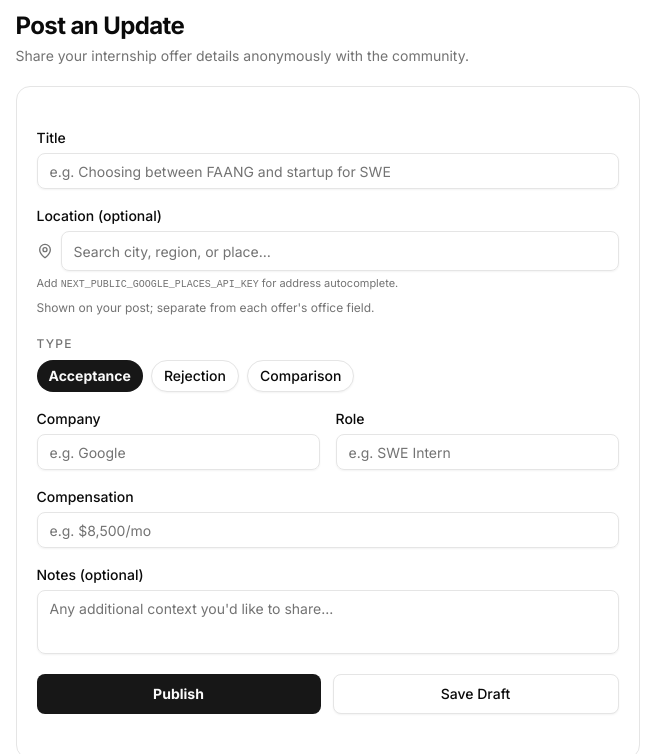
Test case: SubmitOfferForm › shows validation error when title is missing (Publish)
Click the button "Publish".
click(178, 694)  # box [36,674,320,714]
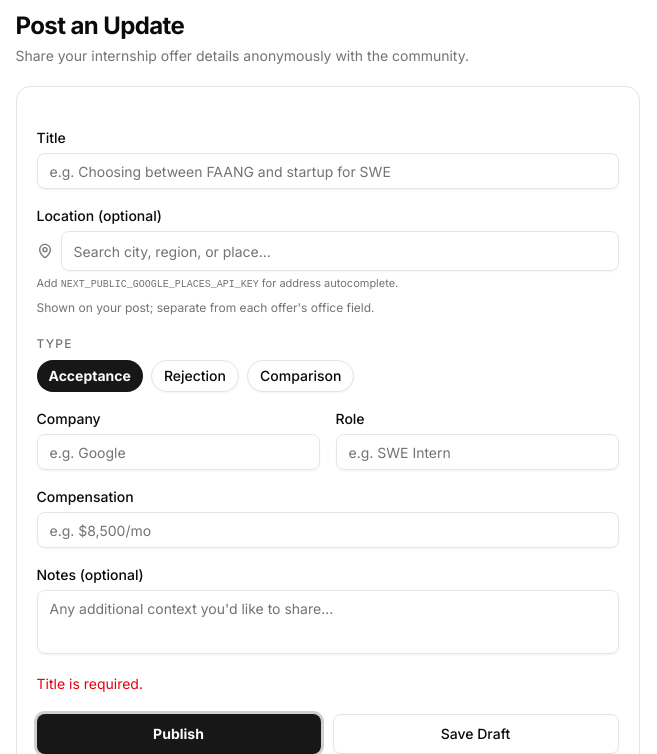
Expected: the text "Title is required." is shown, [36,675,143,692]
